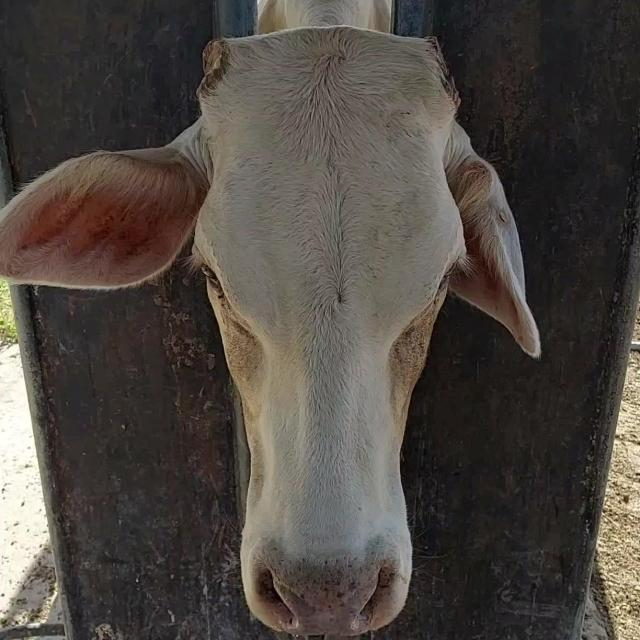cowFace: (192, 27, 454, 635)
